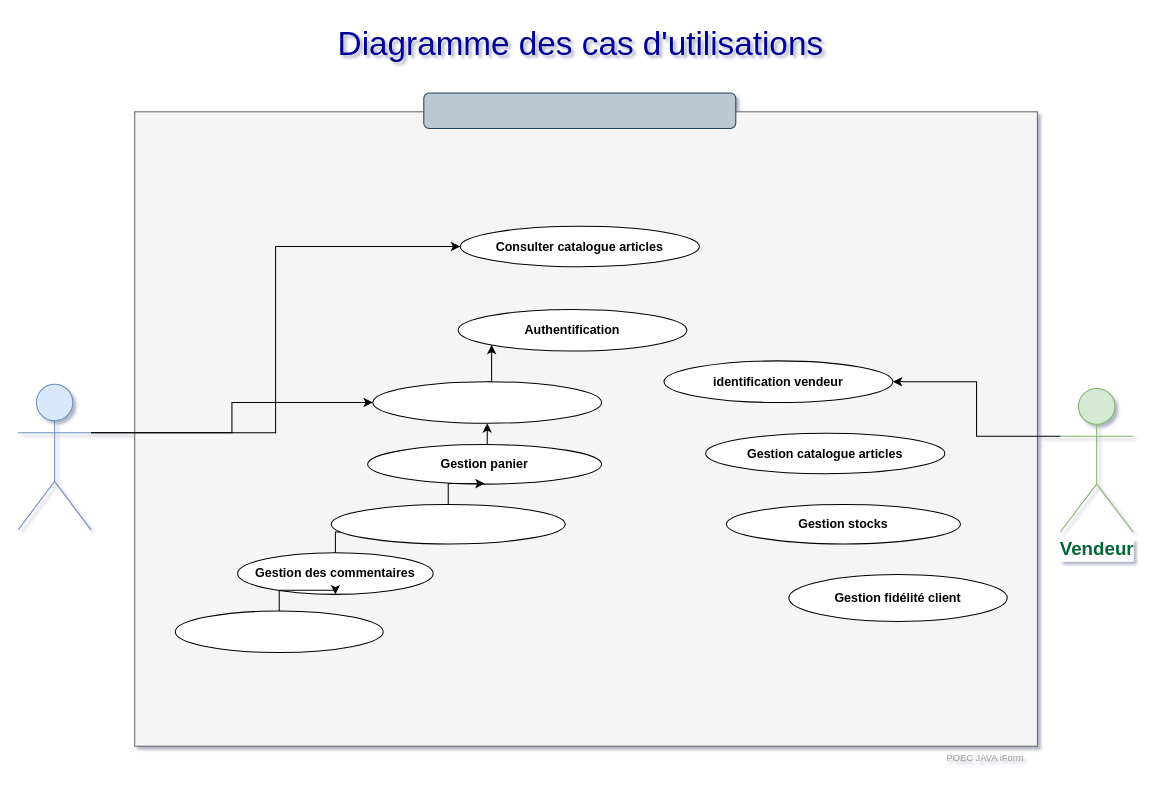
Image size: 1158x805. Some labels were removed from this diagram. Here are the shapes that lost their labels. From the top down, the centre of each, then its label:
the point at 579,110: SYSTEME VENTE EN LIGNE
the point at 487,402: identification client
the point at 54,456: Client
the point at 447,523: Gestion réservation
the point at 278,631: Gestion des réclamations
